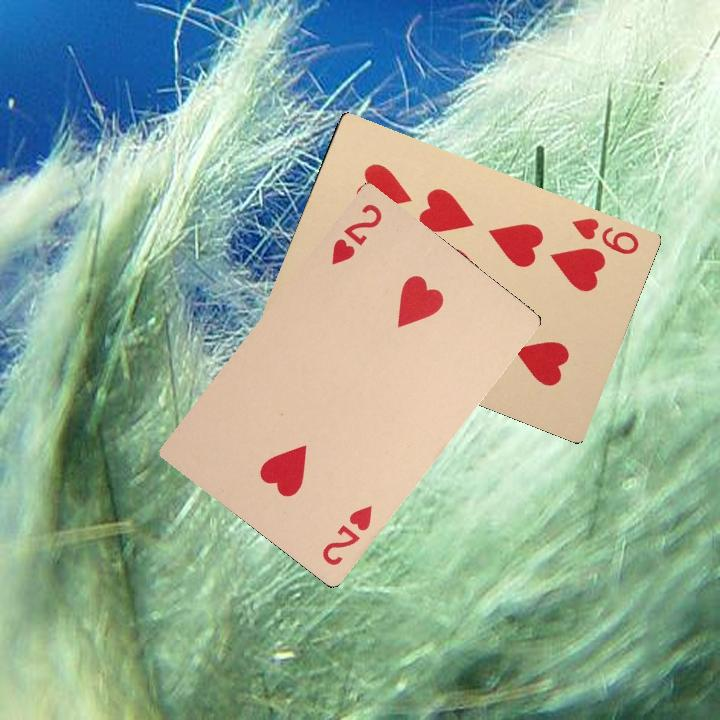2h: (317, 500, 375, 568), (327, 199, 385, 267)
9h: (568, 213, 642, 257)
